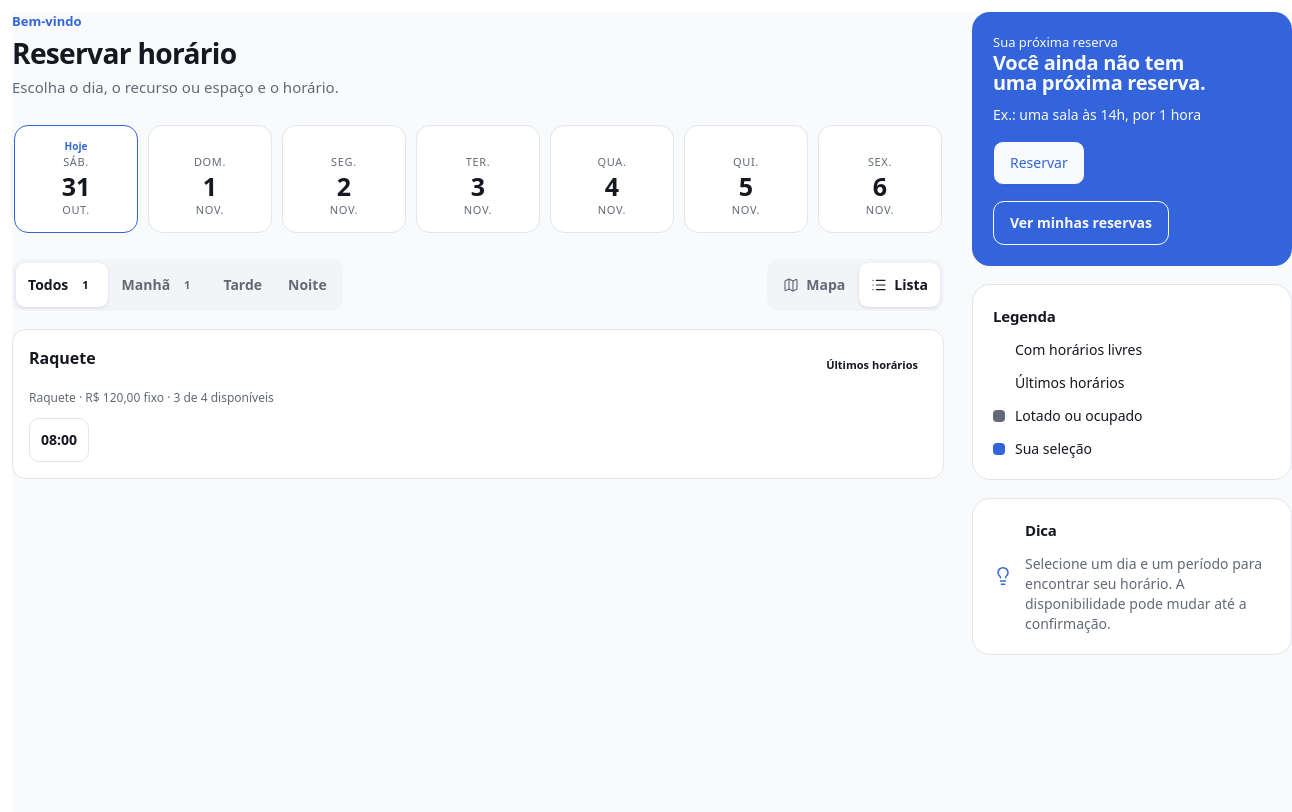
Test: BookingMapExperience › shows the quoted Fixed unit for a two-hour window
This screenshot has width=1292, height=812.
Click the radio button labelled "Mapa" at coordinates (814, 285), box left=771, top=263, right=857, bottom=307
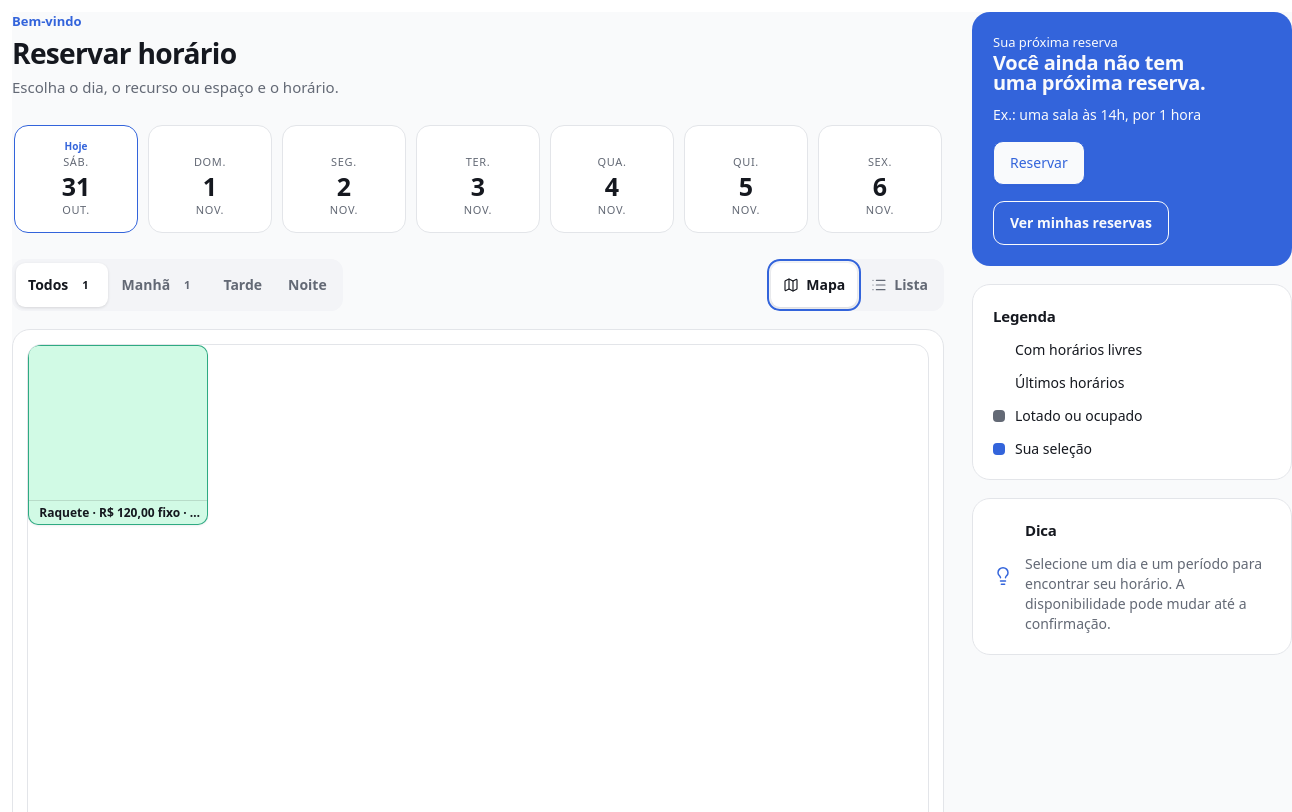
expect the button "Raquete" shows "R$ 120,00 fixo": met, box left=28, top=345, right=208, bottom=525
